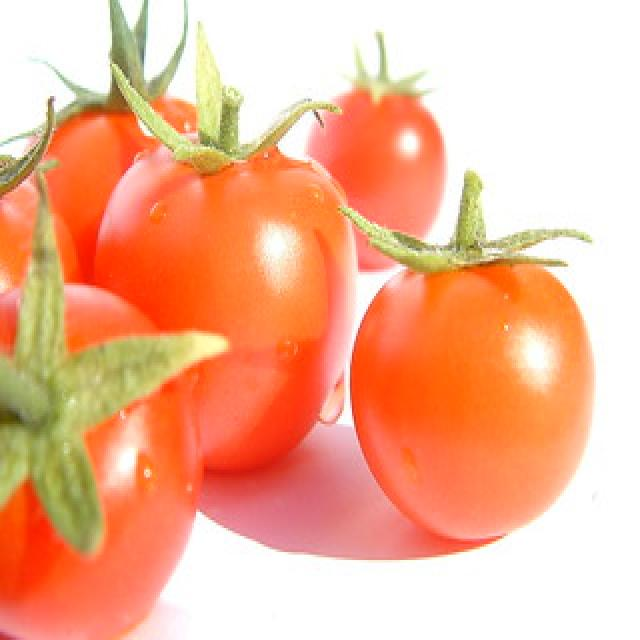Tomato: (336, 163, 599, 552)
